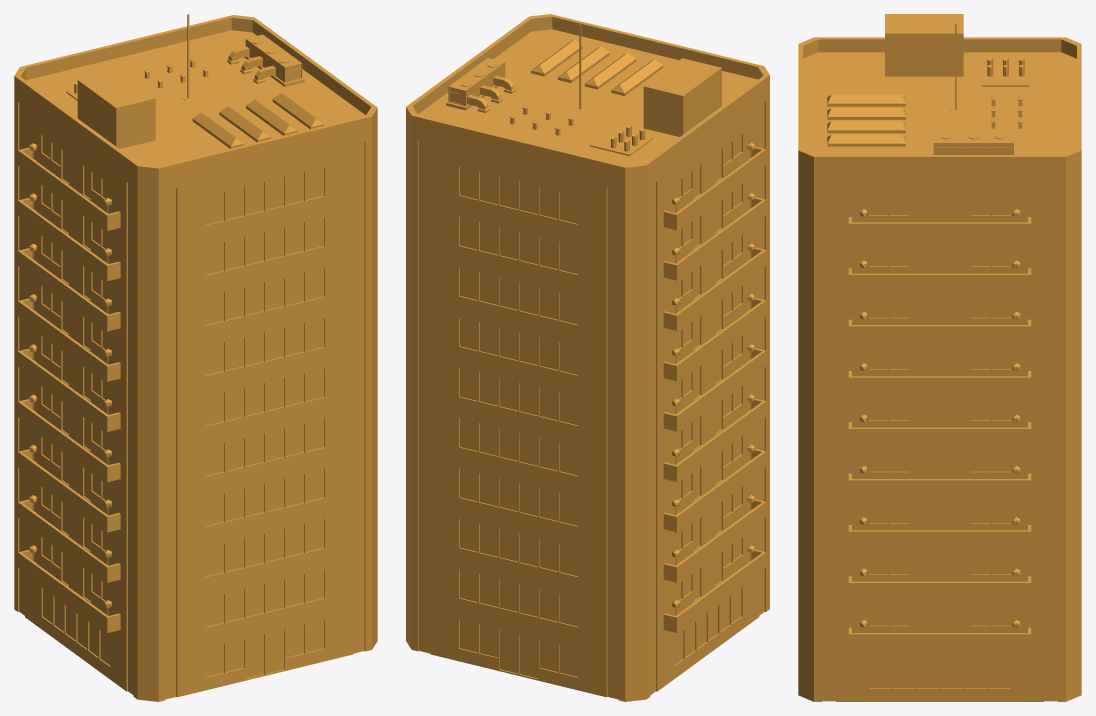
File: building-office-balcony.fbx
The picture shows the model from 3 angles, left to right: view 1: azimuth 30°, elevation 25°; view 2: azimuth 150°, elevation 25°; view 3: azimuth 270°, elevation 25°; orthographic projection. The views are drawn at different scales.
Visible parts, largest first — view 1: building-office-balcony; view 2: building-office-balcony; view 3: building-office-balcony.
Part boxes in pixels (left/top/right/bottom): building-office-balcony: left=14, top=14, right=377, bottom=701; building-office-balcony: left=406, top=14, right=769, bottom=701; building-office-balcony: left=798, top=14, right=1081, bottom=701.
Size of the model in its own units: 20 by 43.33 by 18.
